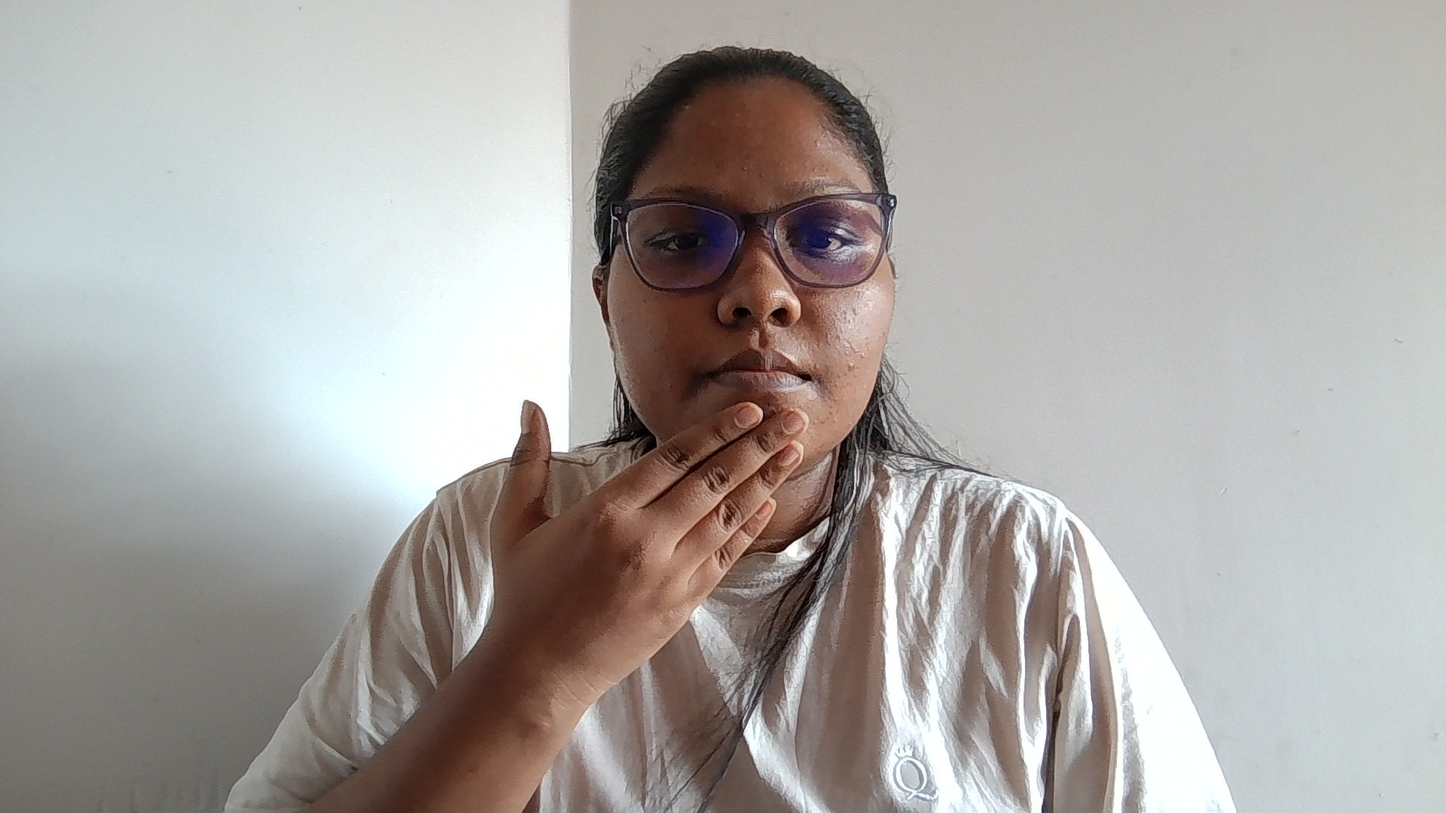Thank You: (433, 379, 940, 685)
